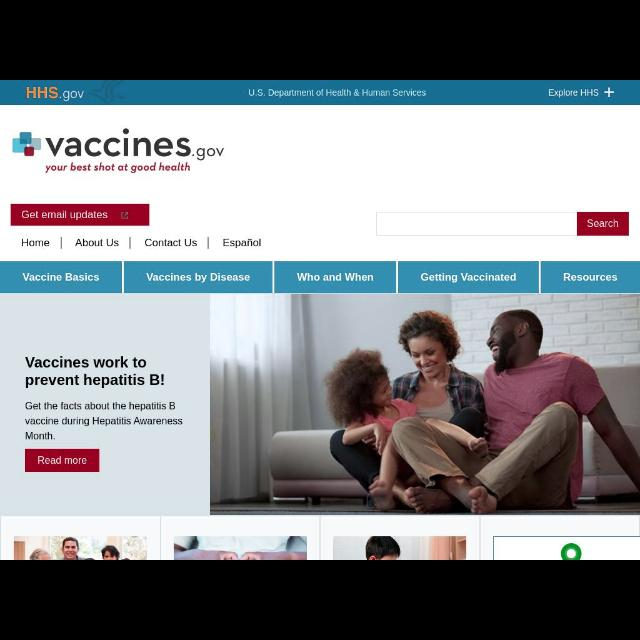icon: (604, 86, 614, 98), (120, 210, 130, 220)
image: (210, 294, 640, 514), (493, 537, 639, 559), (13, 535, 146, 559), (175, 536, 308, 560), (334, 536, 464, 560), (12, 132, 42, 156)
input: (377, 212, 578, 235)
multitab: (22, 273, 618, 283), (21, 238, 261, 250)
text: (46, 128, 224, 174), (26, 402, 182, 441), (25, 356, 165, 388), (248, 89, 426, 98), (419, 272, 516, 284), (147, 273, 251, 283), (22, 210, 108, 222), (26, 86, 84, 102), (22, 272, 100, 282), (296, 272, 374, 282), (144, 238, 198, 248), (548, 89, 600, 98), (223, 238, 261, 250), (562, 274, 618, 282), (75, 238, 119, 248), (37, 456, 87, 464), (587, 218, 619, 228), (22, 238, 50, 248)
textbutton: (11, 204, 150, 226), (24, 449, 100, 473), (577, 212, 629, 236)
